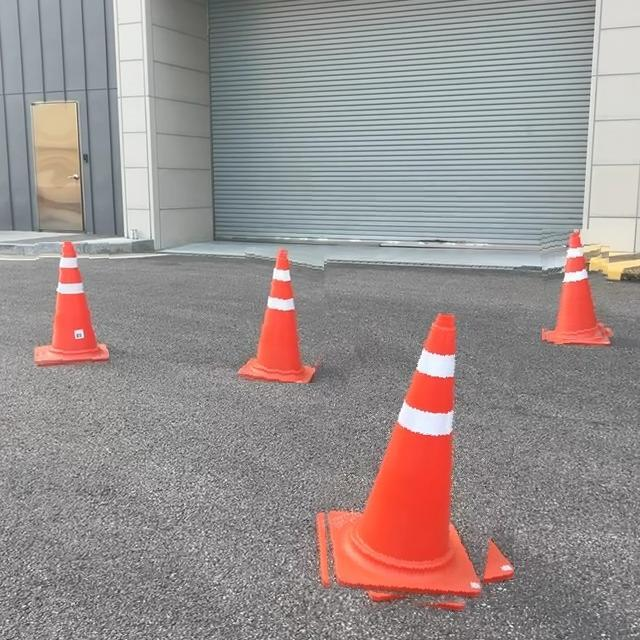fallen_object: (293, 271, 522, 640), (509, 202, 640, 399), (237, 202, 346, 405), (43, 182, 136, 418)
